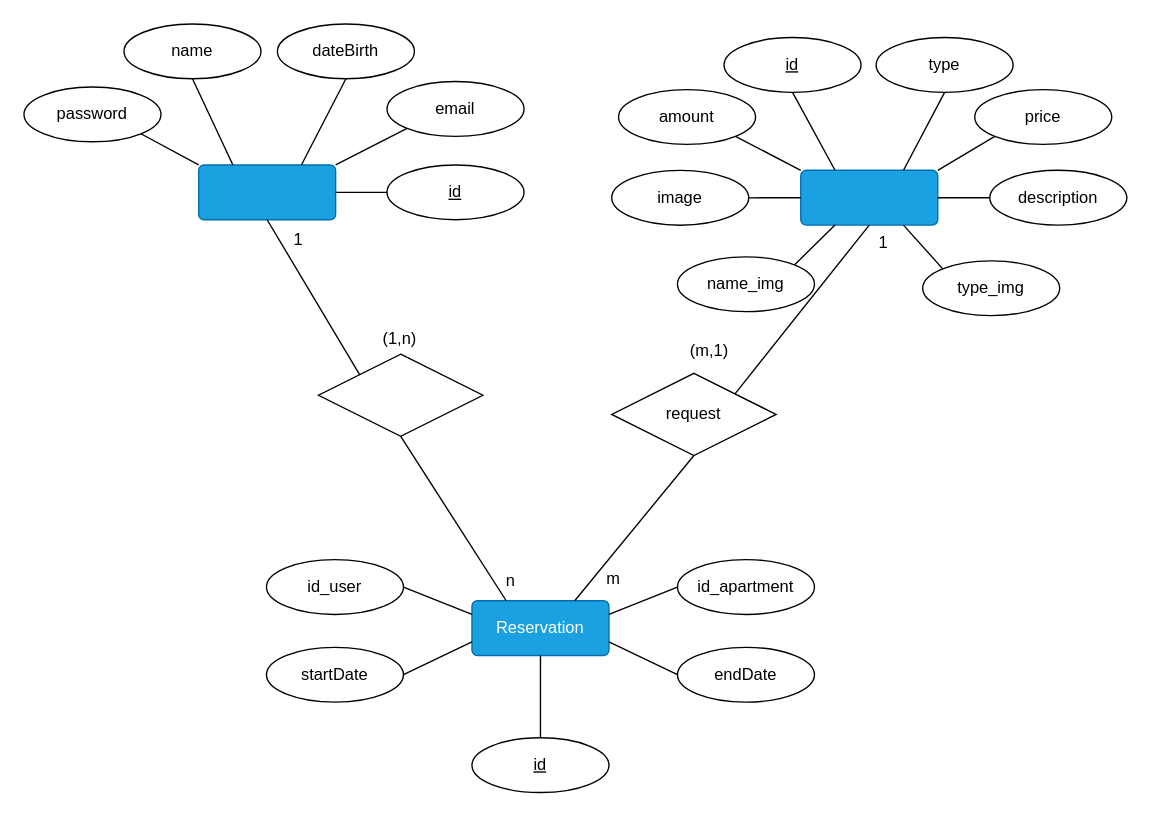
This 1151x817 diagram has some shape labels left out. The shapes that lost their labels are listed below. From the top down, each one's centre as x and y in pixels, then its label:
point (266, 192): User
point (868, 197): Apartment
point (400, 394): order
